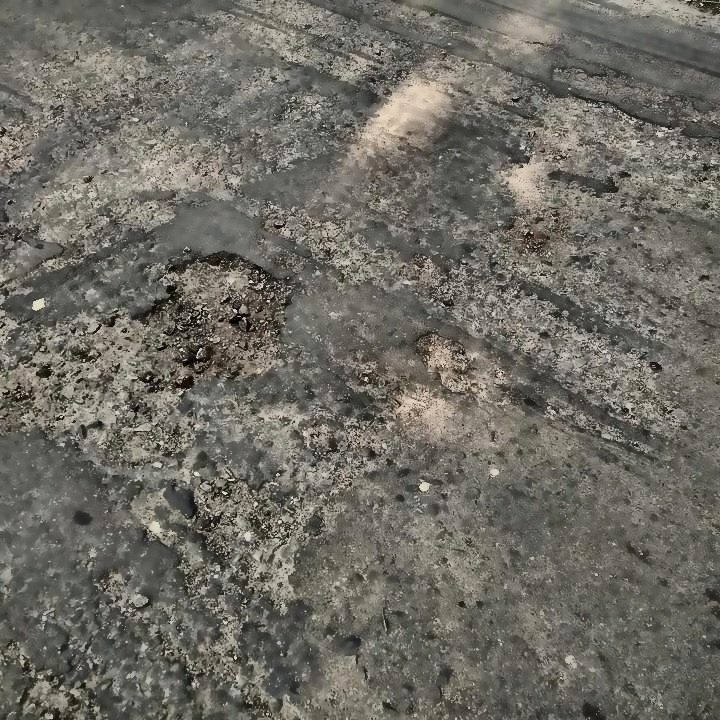pothole: (138, 247, 301, 377), (188, 473, 314, 607), (412, 329, 474, 392)
